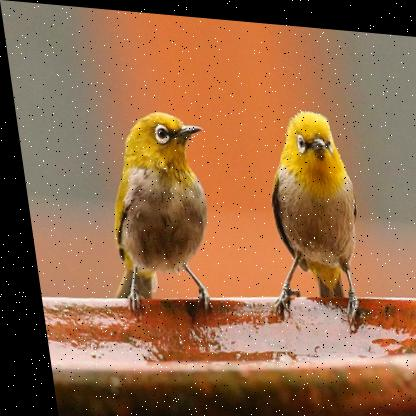Burung: (86, 102, 220, 317)
